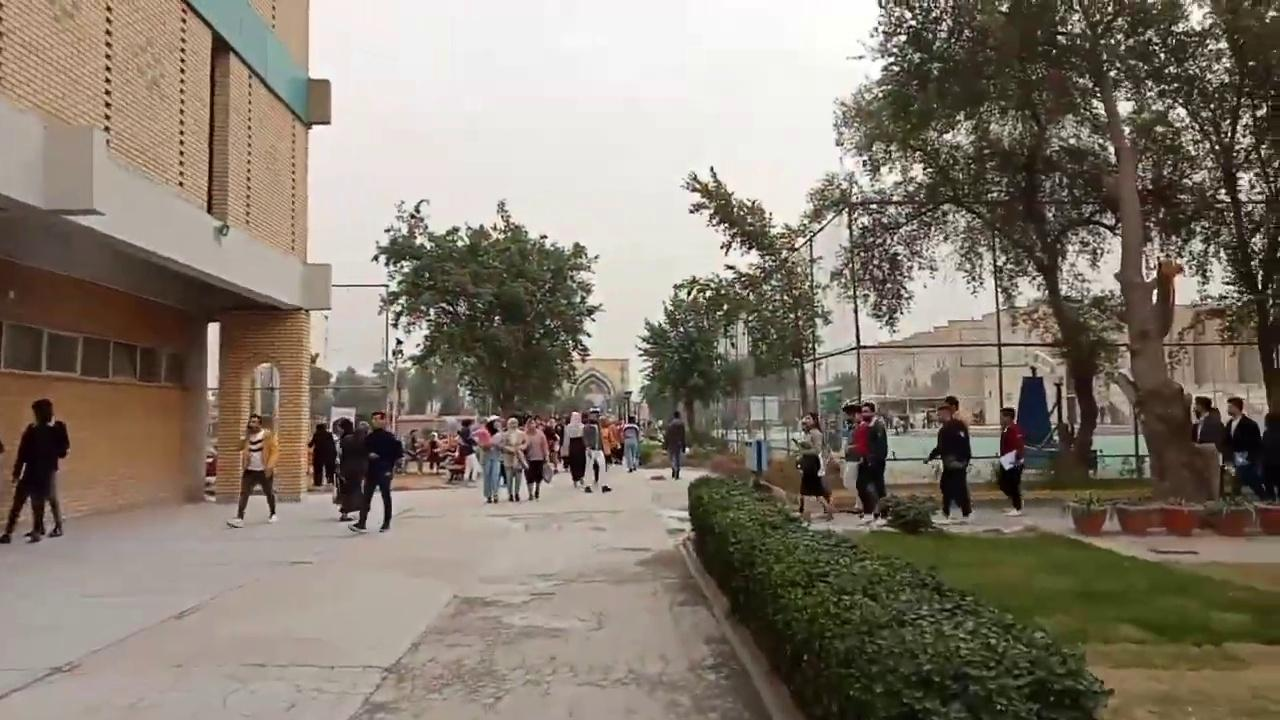person: (1, 398, 70, 543), (226, 413, 278, 528), (924, 404, 972, 520), (845, 401, 888, 520), (790, 411, 835, 518), (1222, 396, 1266, 499), (997, 407, 1025, 516), (1191, 395, 1223, 448), (1260, 412, 1279, 500), (663, 410, 686, 479)
tree: (839, 0, 1280, 504), (678, 473, 1108, 720), (1132, 0, 1280, 423), (370, 195, 604, 420), (679, 164, 835, 431), (802, 169, 920, 406), (635, 285, 730, 455), (673, 272, 752, 438)
